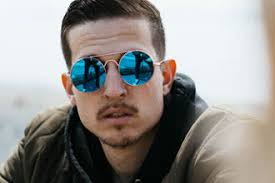g.y: (118, 51, 156, 88)
